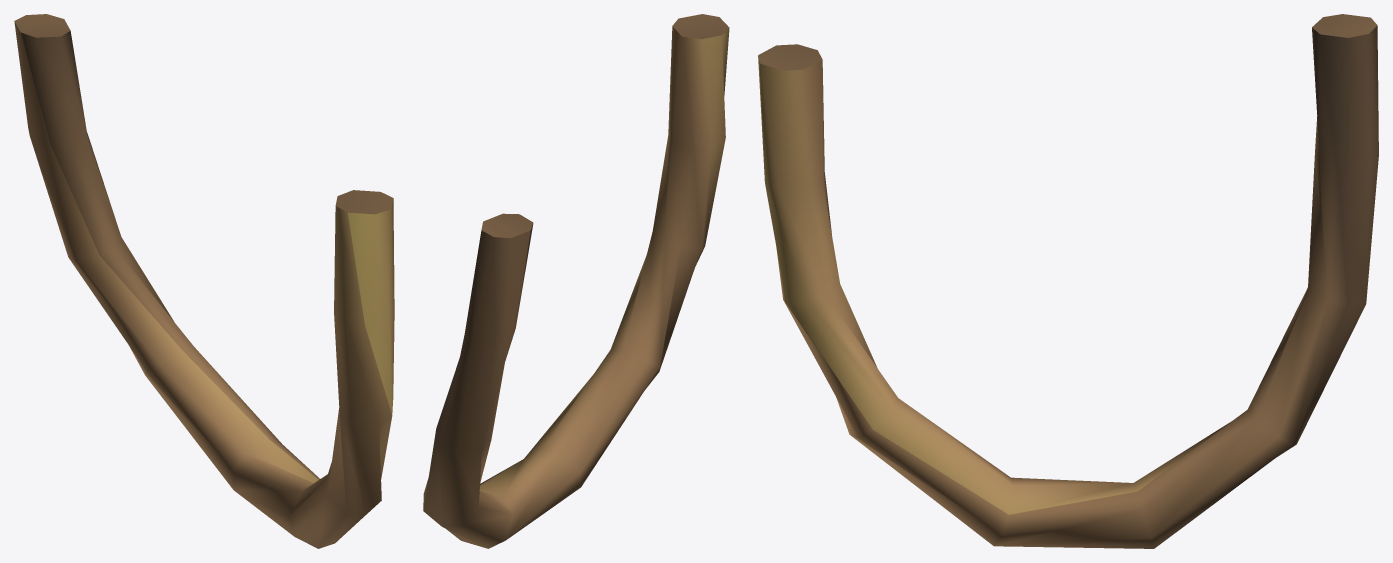
File: vine_small_curve_brown_LOD_group.fbx
3 renders of one model, left to right at view 1: azimuth 30°, elevation 25°; view 2: azimuth 150°, elevation 25°; view 3: azimuth 270°, elevation 25°, orthographic. The views are drawn at different scales.
Visible parts, largest first — view 1: vine_horizontal_curve_small_brown_LOD0; view 2: vine_horizontal_curve_small_brown_LOD0; view 3: vine_horizontal_curve_small_brown_LOD0.
Part boxes in pixels (left/top/right/bottom): vine_horizontal_curve_small_brown_LOD0: left=14, top=14, right=394, bottom=548; vine_horizontal_curve_small_brown_LOD0: left=423, top=14, right=729, bottom=548; vine_horizontal_curve_small_brown_LOD0: left=758, top=14, right=1378, bottom=548.
Size of what is drawn, in the model's own units: 35.7 by 85.06 by 105.
1 material, 1 textured.
